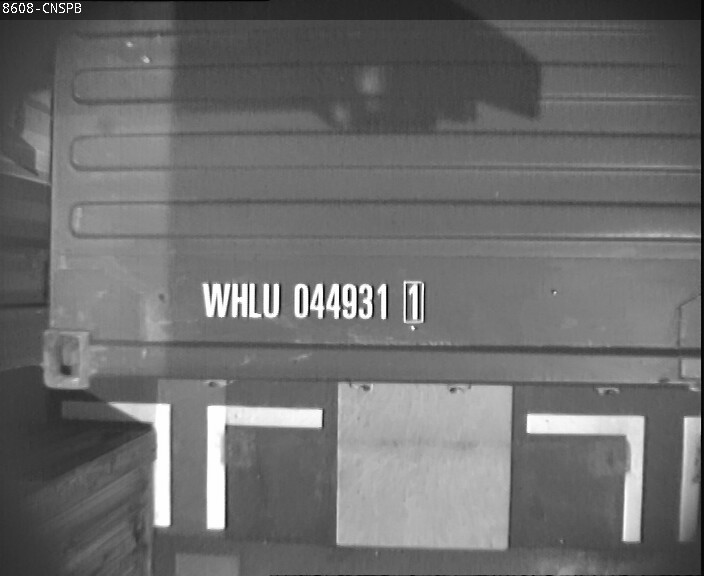groundmarker_1: (60, 401, 322, 532)
